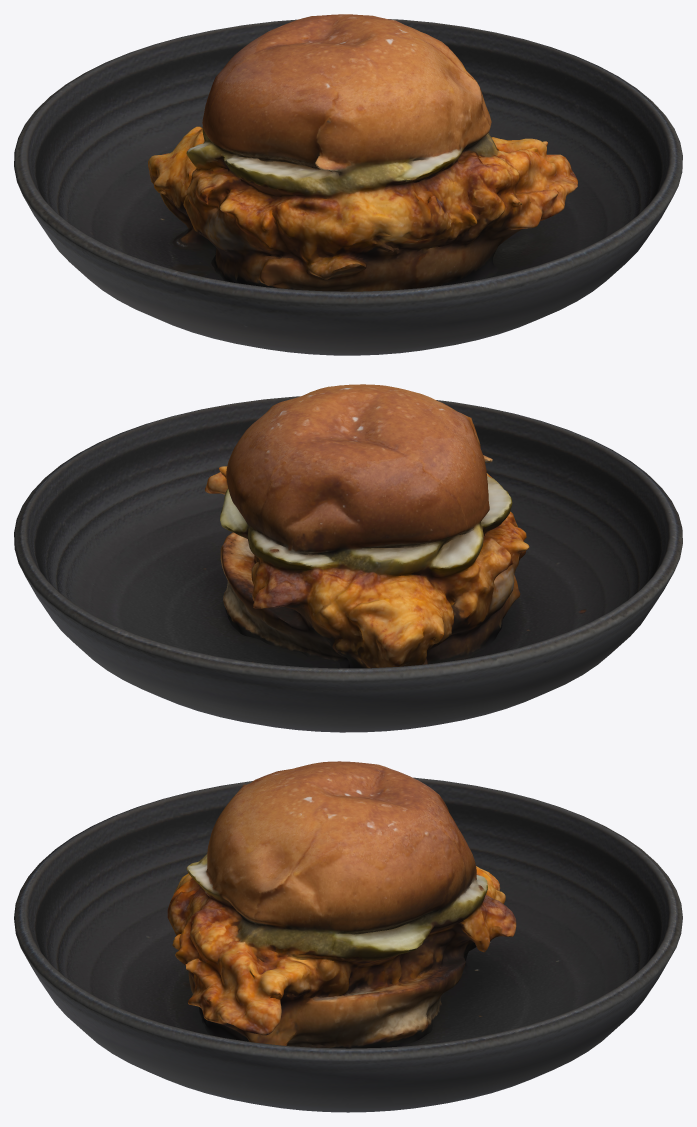
The model's file is Nashville_Chicken_sandwich_(pickles_on_top).FBX.
The picture shows the model from 3 angles, top to bottom: view 1: azimuth 30°, elevation 25°; view 2: azimuth 150°, elevation 25°; view 3: azimuth 270°, elevation 25°; orthographic projection.
Parts seen in each view (by area): view 1: Nashville Chicken sandwich (pickles on top); view 2: Nashville Chicken sandwich (pickles on top); view 3: Nashville Chicken sandwich (pickles on top).
Boxes of the visible parts, left/top/right/bottom form: Nashville Chicken sandwich (pickles on top): left=14, top=14, right=682, bottom=355; Nashville Chicken sandwich (pickles on top): left=14, top=384, right=682, bottom=732; Nashville Chicken sandwich (pickles on top): left=14, top=761, right=682, bottom=1112.
Size of the model in its own units: 4.32 by 1.7 by 4.32.
1 material, 1 textured.
